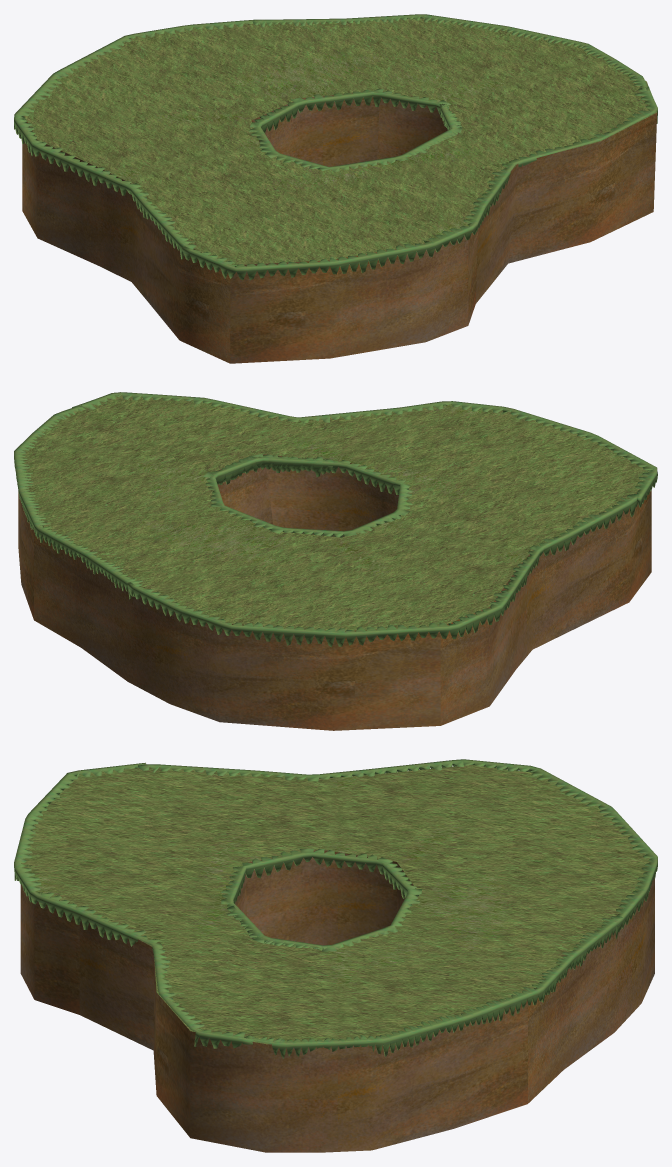
The model's file is One_level_Hole_01.FBX.
3 renders of one model, top to bottom at view 1: azimuth 30°, elevation 25°; view 2: azimuth 150°, elevation 25°; view 3: azimuth 270°, elevation 25°, orthographic. The views are drawn at different scales.
Parts seen in each view (by area): view 1: Box004, Box006, Box005, Box008, Box007; view 2: Box004, Box005, Box008, Box006, Box007; view 3: Box004, Box006, Box007, Box005, Box008.
Boxes of the visible parts, x1=… form: Box004: x1=22, y1=18, x2=657, y2=363; Box006: x1=182, y1=86, x2=657, y2=280; Box005: x1=14, y1=19, x2=264, y2=259; Box008: x1=249, y1=88, x2=462, y2=171; Box007: x1=252, y1=14, x2=648, y2=91; Box004: x1=18, y1=392, x2=651, y2=730; Box005: x1=127, y1=494, x2=638, y2=647; Box008: x1=203, y1=454, x2=412, y2=537; Box006: x1=72, y1=392, x2=657, y2=507; Box007: x1=14, y1=405, x2=142, y2=599; Box004: x1=20, y1=765, x2=654, y2=1152; Box006: x1=14, y1=762, x2=254, y2=1048; Box007: x1=244, y1=916, x2=622, y2=1058; Box005: x1=138, y1=759, x2=657, y2=932; Box008: x1=220, y1=848, x2=422, y2=951.
Bounding box in the file's own units: 6.47 × 1.19 × 6.18.
